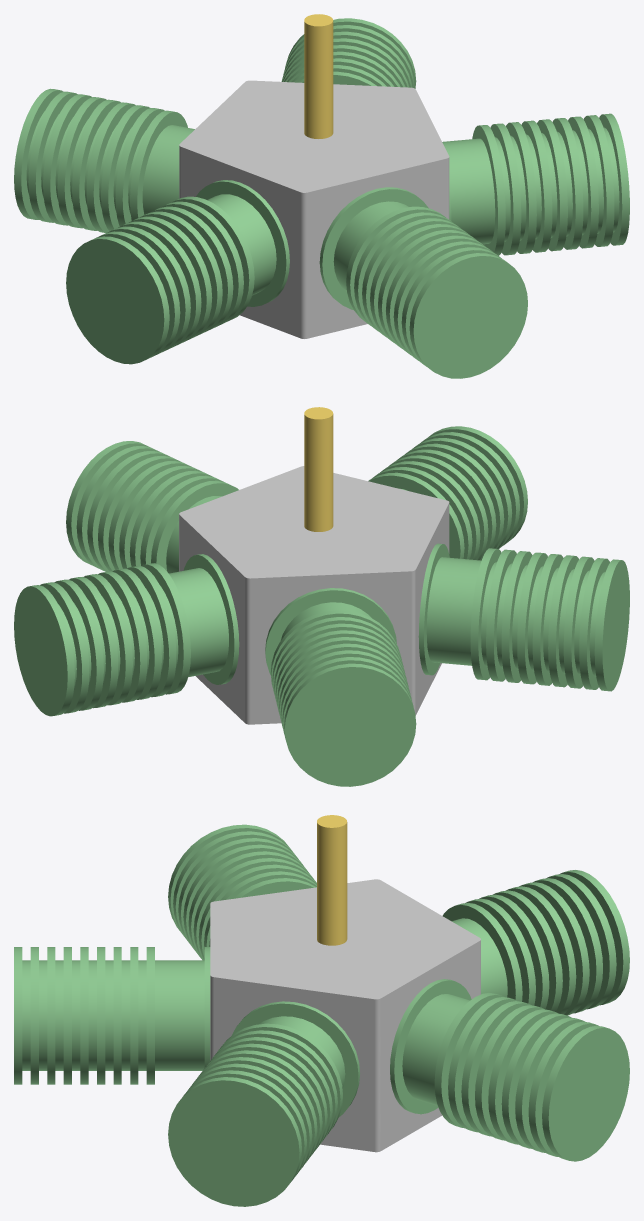
Rendered from radial-engine.glb.
The picture shows the model from 3 angles, top to bottom: view 1: azimuth 30°, elevation 25°; view 2: azimuth 150°, elevation 25°; view 3: azimuth 270°, elevation 25°; orthographic projection. The views are drawn at different scales.
Parts seen in each view (by area): view 1: Body1, Body1:12, Body1:1, Body1:6, Body1:10, Body1:8, Body1:5; view 2: Body1, Body1:8, Body1:12, Body1:10, Body1:6, Body1:1, Body1:5; view 3: Body1, Body1:8, Body1:6, Body1:1, Body1:10, Body1:12, Body1:5.
Part boxes in pixels (bbox=[...]): Body1: bbox=[179, 80, 449, 338]; Body1:12: bbox=[66, 180, 289, 364]; Body1:1: bbox=[319, 187, 527, 378]; Body1:6: bbox=[442, 113, 629, 255]; Body1:10: bbox=[14, 88, 194, 232]; Body1:8: bbox=[281, 18, 416, 88]; Body1:5: bbox=[304, 14, 333, 138]; Body1: bbox=[179, 466, 449, 724]; Body1:8: bbox=[14, 554, 239, 716]; Body1:12: bbox=[418, 543, 629, 691]; Body1:10: bbox=[265, 588, 416, 786]; Body1:6: bbox=[66, 441, 238, 573]; Body1:1: bbox=[368, 426, 527, 560]; Body1:5: bbox=[304, 407, 333, 531]; Body1: bbox=[210, 879, 480, 1152]; Body1:8: bbox=[390, 979, 629, 1161]; Body1:6: bbox=[168, 1001, 360, 1206]; Body1:1: bbox=[14, 947, 210, 1084]; Body1:10: bbox=[442, 870, 629, 1015]; Body1:12: bbox=[168, 824, 316, 960]; Body1:5: bbox=[317, 815, 347, 945].
Size of the model in its own units: 46.84 by 21.6 by 44.55.
